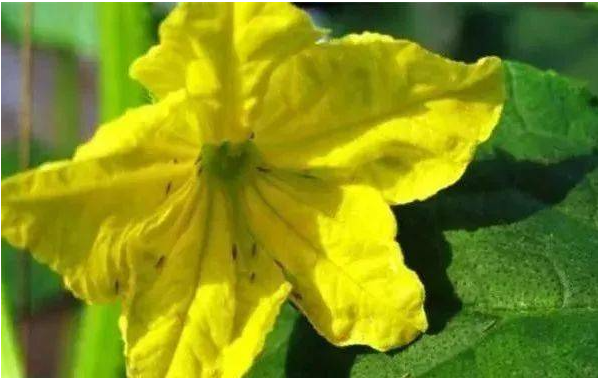thrips: (153, 252, 165, 269), (112, 276, 121, 295), (255, 163, 272, 173), (291, 288, 304, 300), (230, 240, 237, 260), (273, 257, 284, 268), (165, 181, 172, 195), (193, 154, 201, 166), (250, 241, 256, 256), (248, 270, 256, 281)
